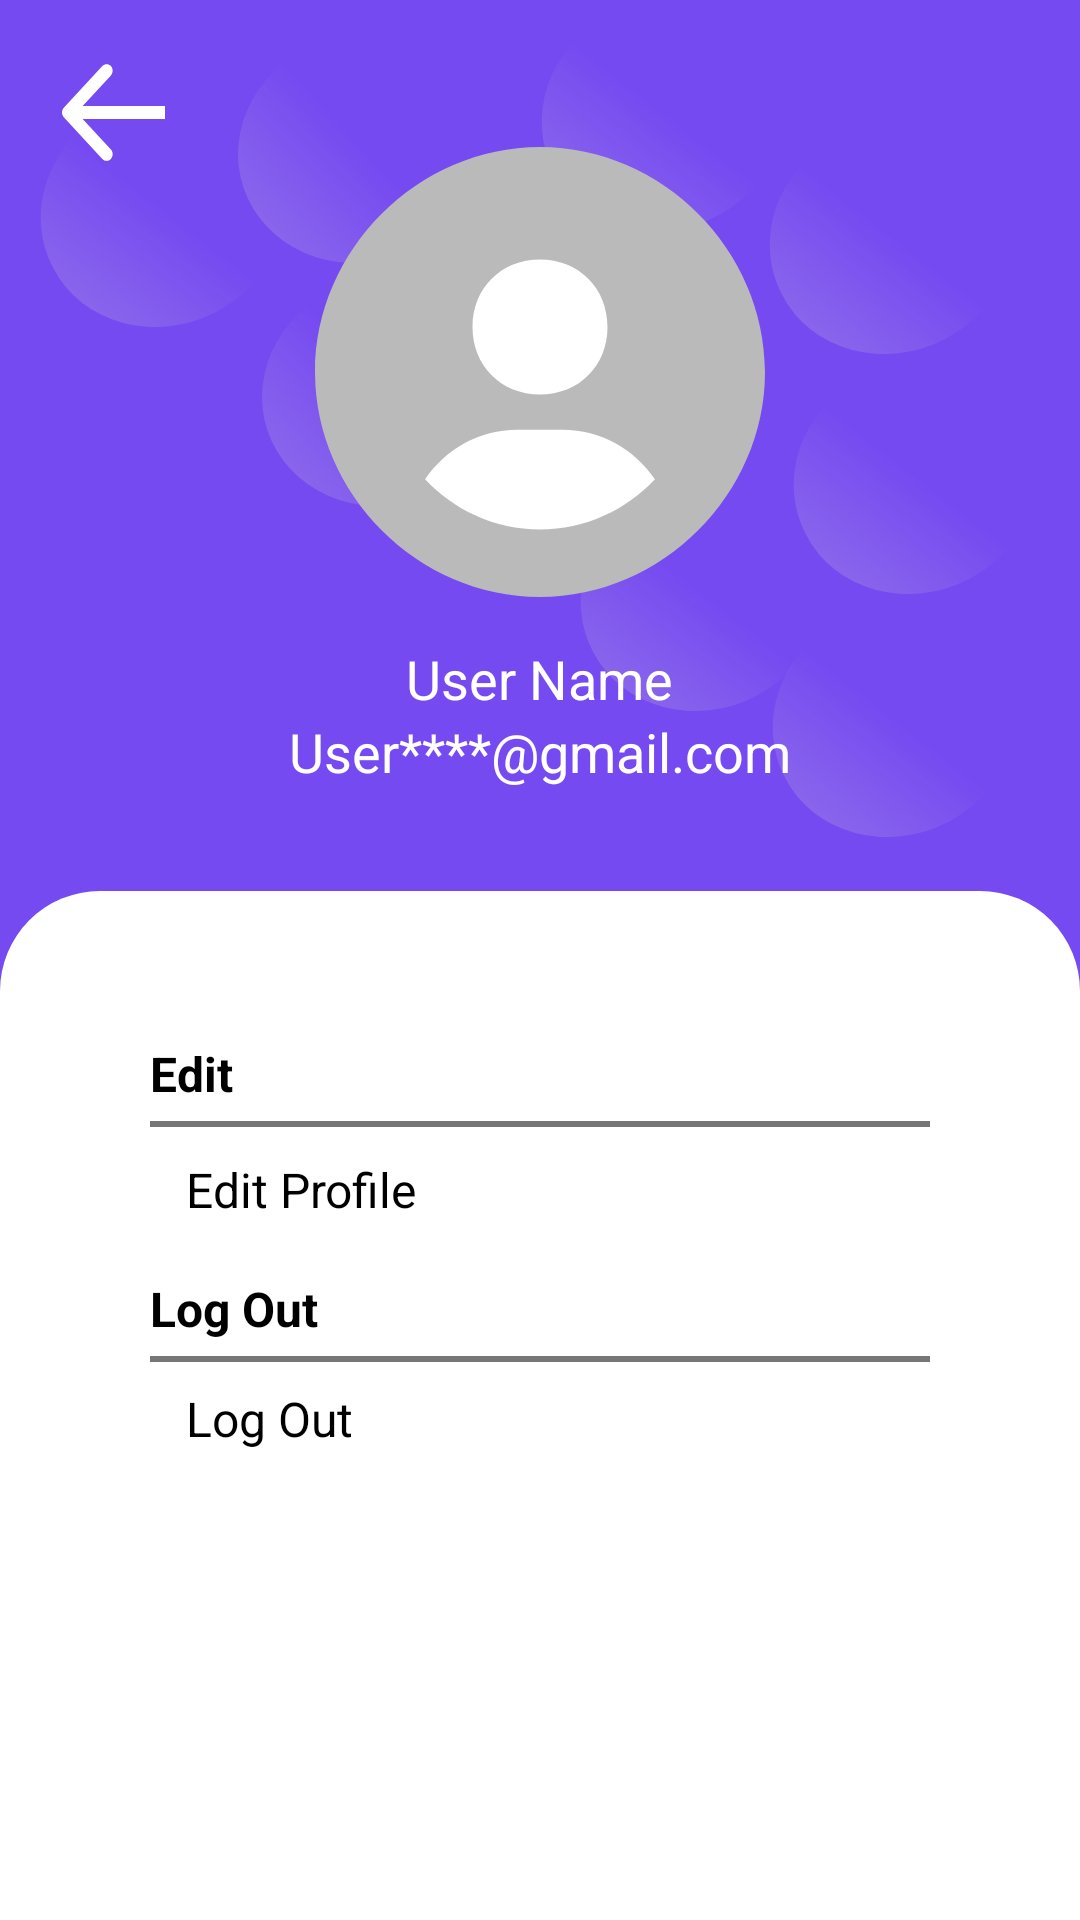

Icon click points for this 1080w x 1920h phone screenshot, format (x=x, y=y):
back arrow: (x=113, y=112)
